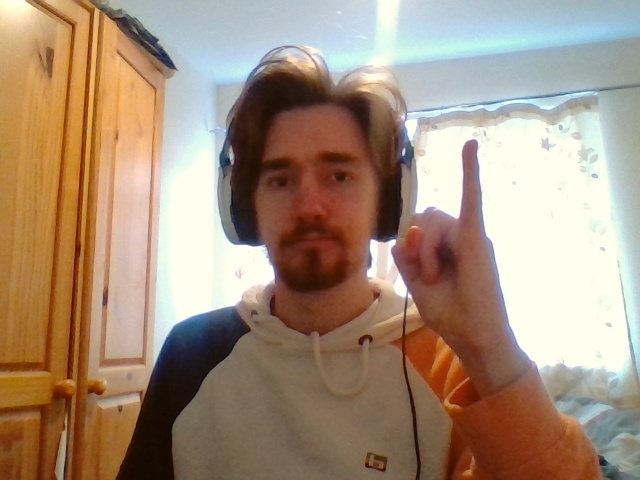bad: (391, 140, 496, 333)
